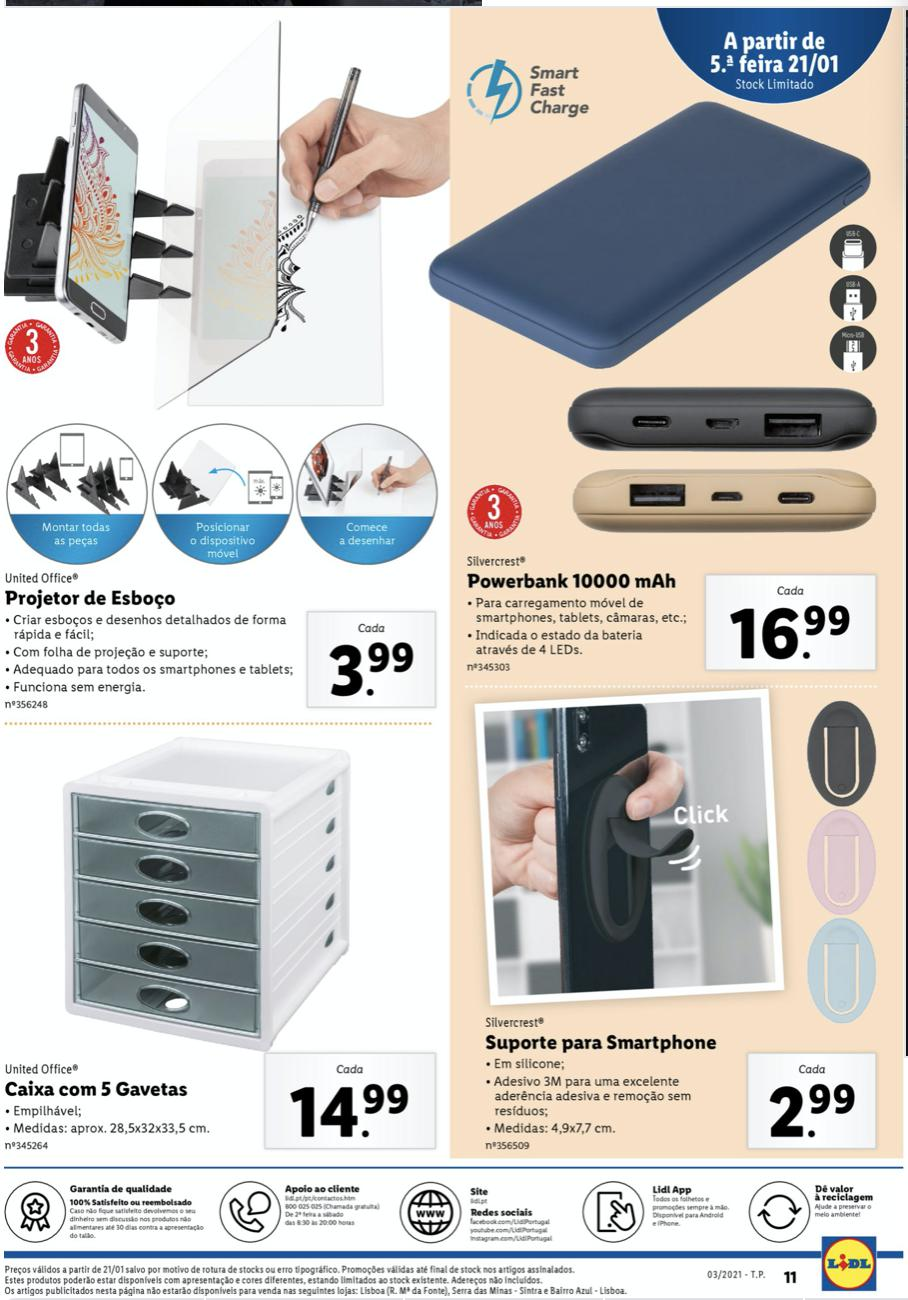name: (483, 1029, 728, 1058), (460, 566, 692, 595), (1, 1076, 196, 1100)
price: (702, 569, 879, 673), (267, 1052, 429, 1150), (746, 1052, 881, 1152)
product: (450, 689, 895, 1163), (5, 724, 441, 1160), (457, 377, 892, 681)
